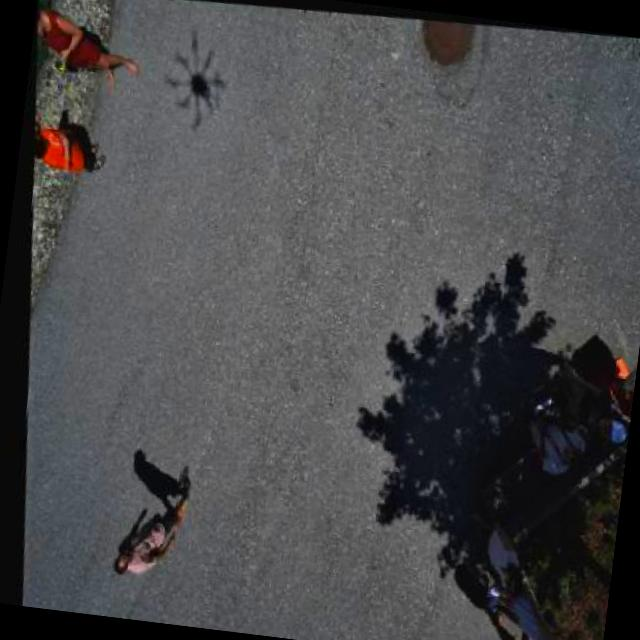Person: (85, 450, 194, 578), (30, 0, 148, 89), (28, 101, 121, 174)
